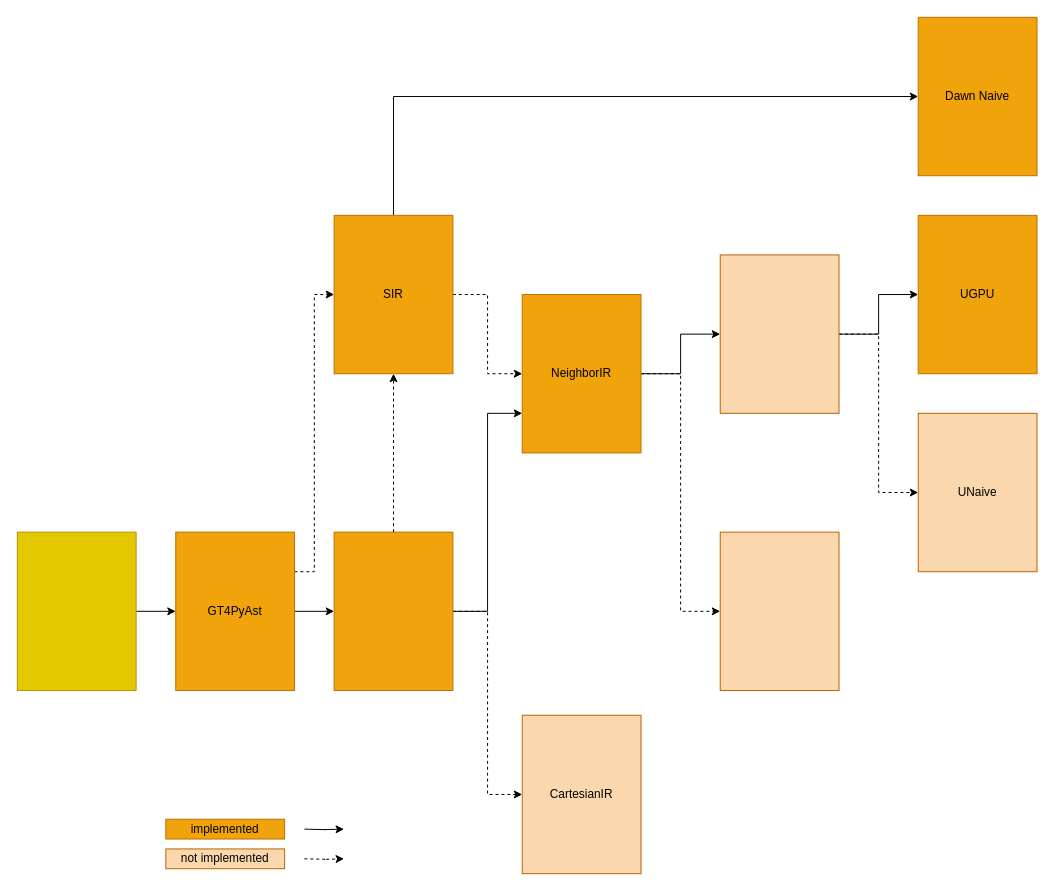
Some shapes in this 1054 by 891 pixel diagram are drawn without their labels. The shapes that lost their labels are listed below. From the top down, each one's centre as x and y in pixels, then its label:
the point at 779,333: UnstructuredIR
the point at 76,611: GTScript
the point at 393,611: GTIR
the point at 779,611: StructuredIR
